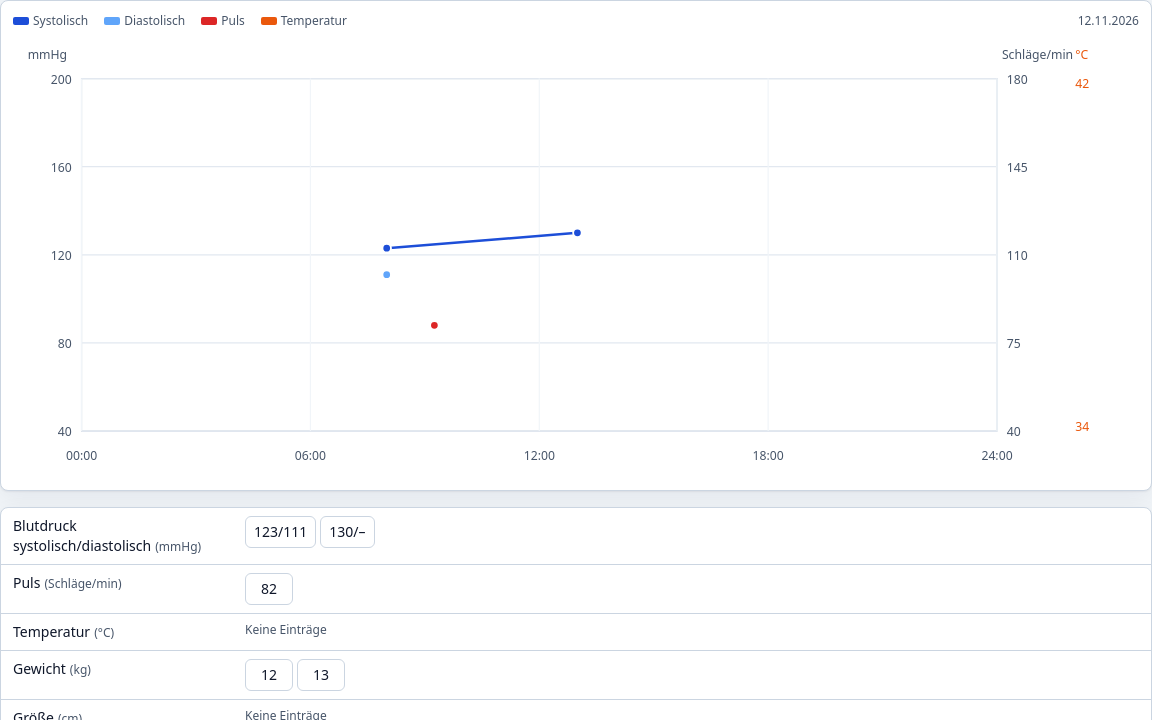
Scenario: EntryRows › toggles the label on touch and clears it on a tap outside
Press the mouse on the button named "Gewicht 12 kg": x=269, y=675 x1=245 y1=659 x2=293 y2=691
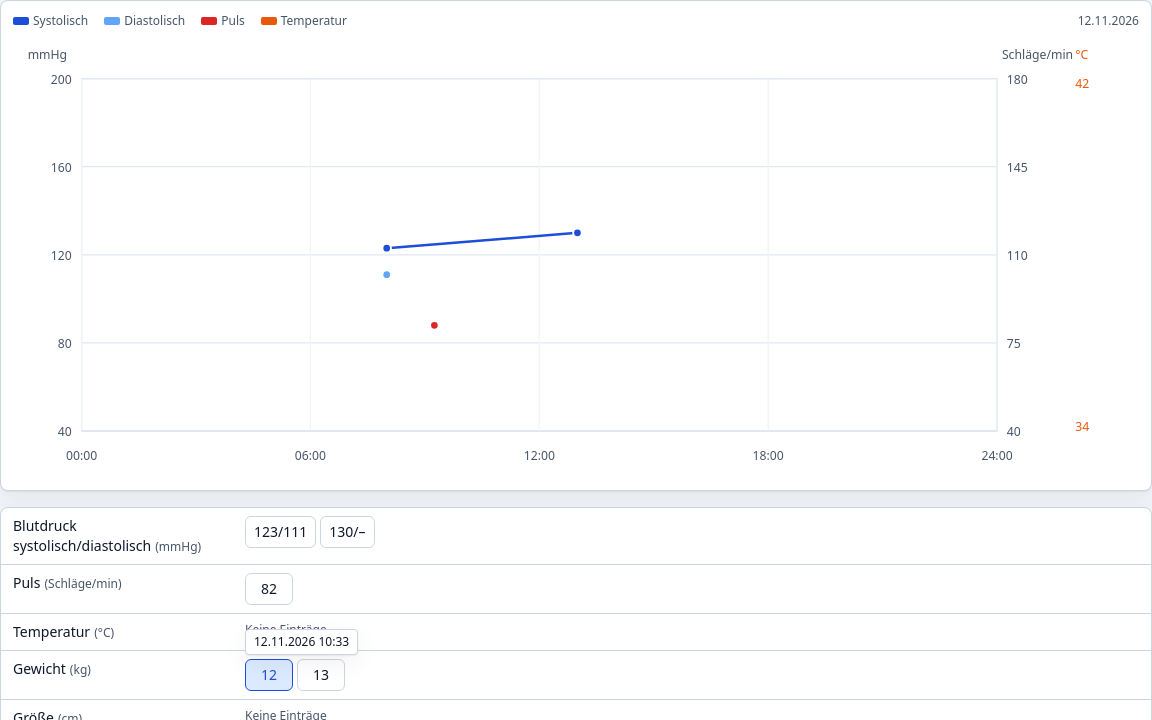
Expected: the tooltip reads "12.11.2026 10:33", x1=254 y1=633 x2=349 y2=650
Press the mouse on the element that starts with "Systolisch": x=576, y=360 x1=0 y1=0 x2=1151 y2=719
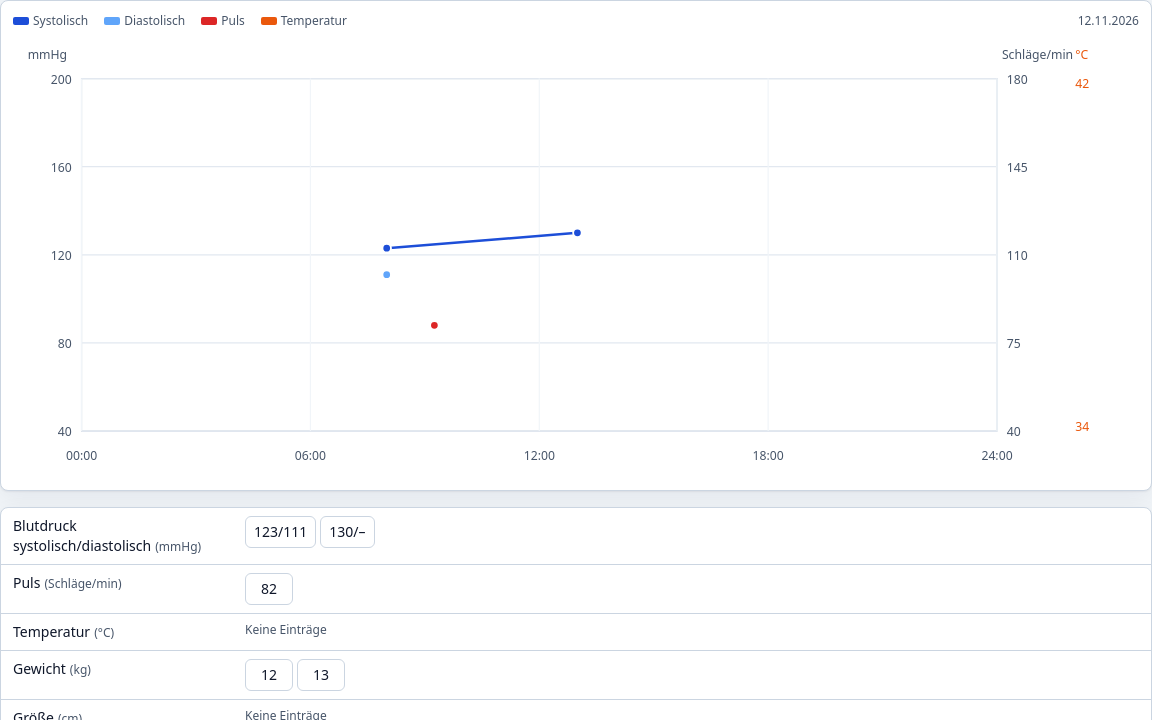
Expected: the tooltip "12.11.2026 10:33" is gone
